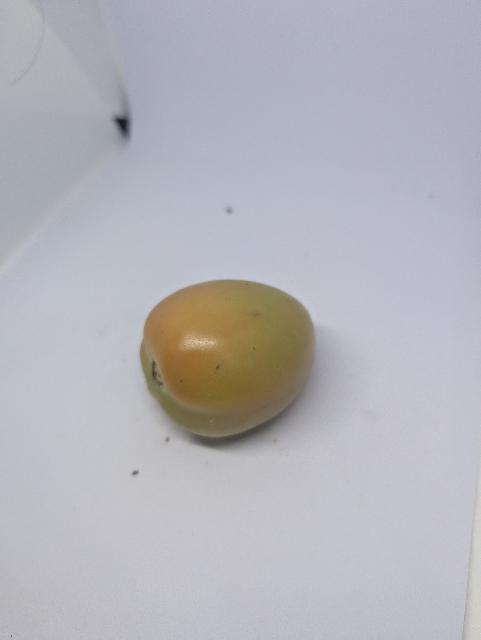breaker: (141, 280, 315, 438)
